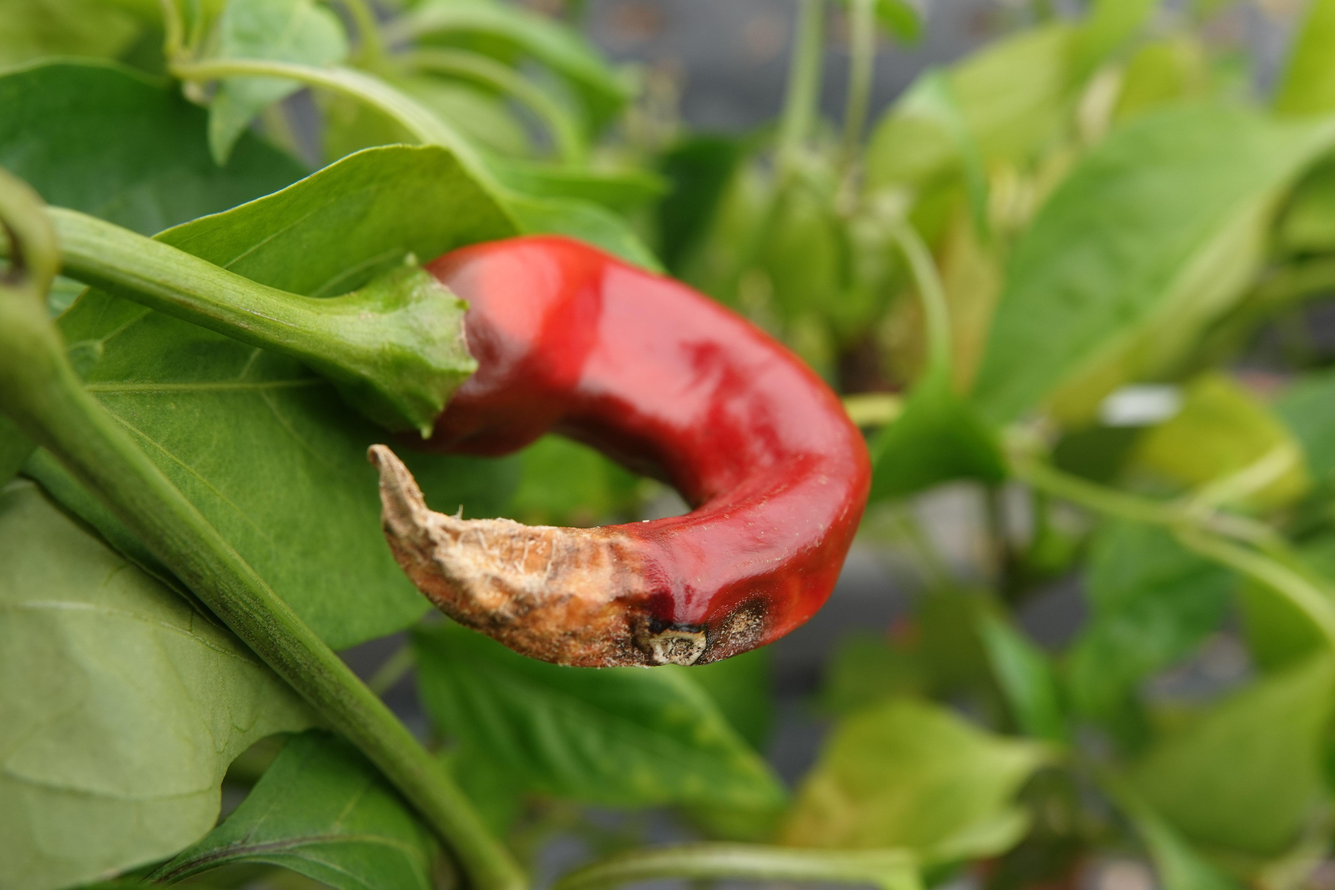Busuk Buah Antraknosa: (363, 231, 874, 671)
